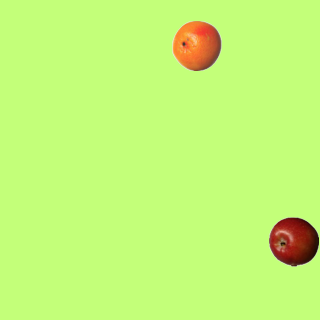Apple Braeburn: (268, 216, 318, 266)
Grapefruit Pink: (171, 20, 221, 70)
